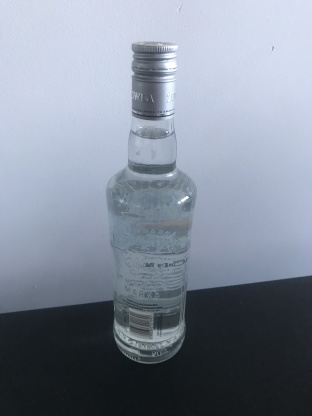nakretka: (129, 39, 178, 122)
